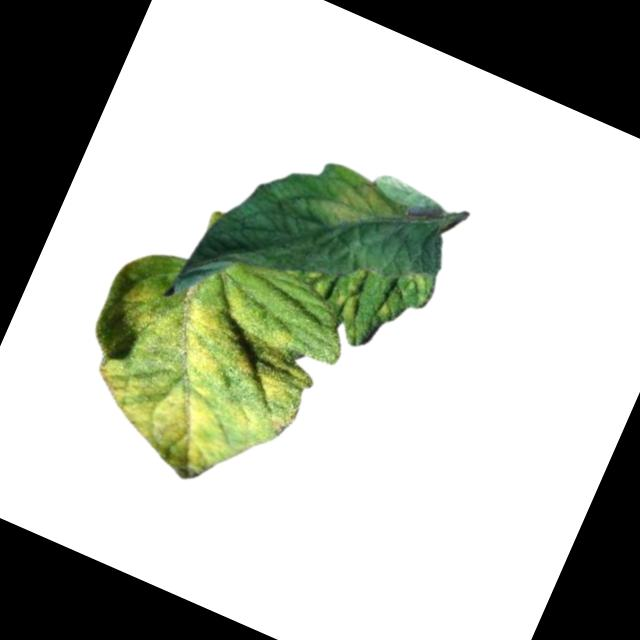Leaf_Mold: (53, 245, 337, 511), (307, 160, 409, 253), (326, 262, 376, 325), (393, 265, 441, 309)
